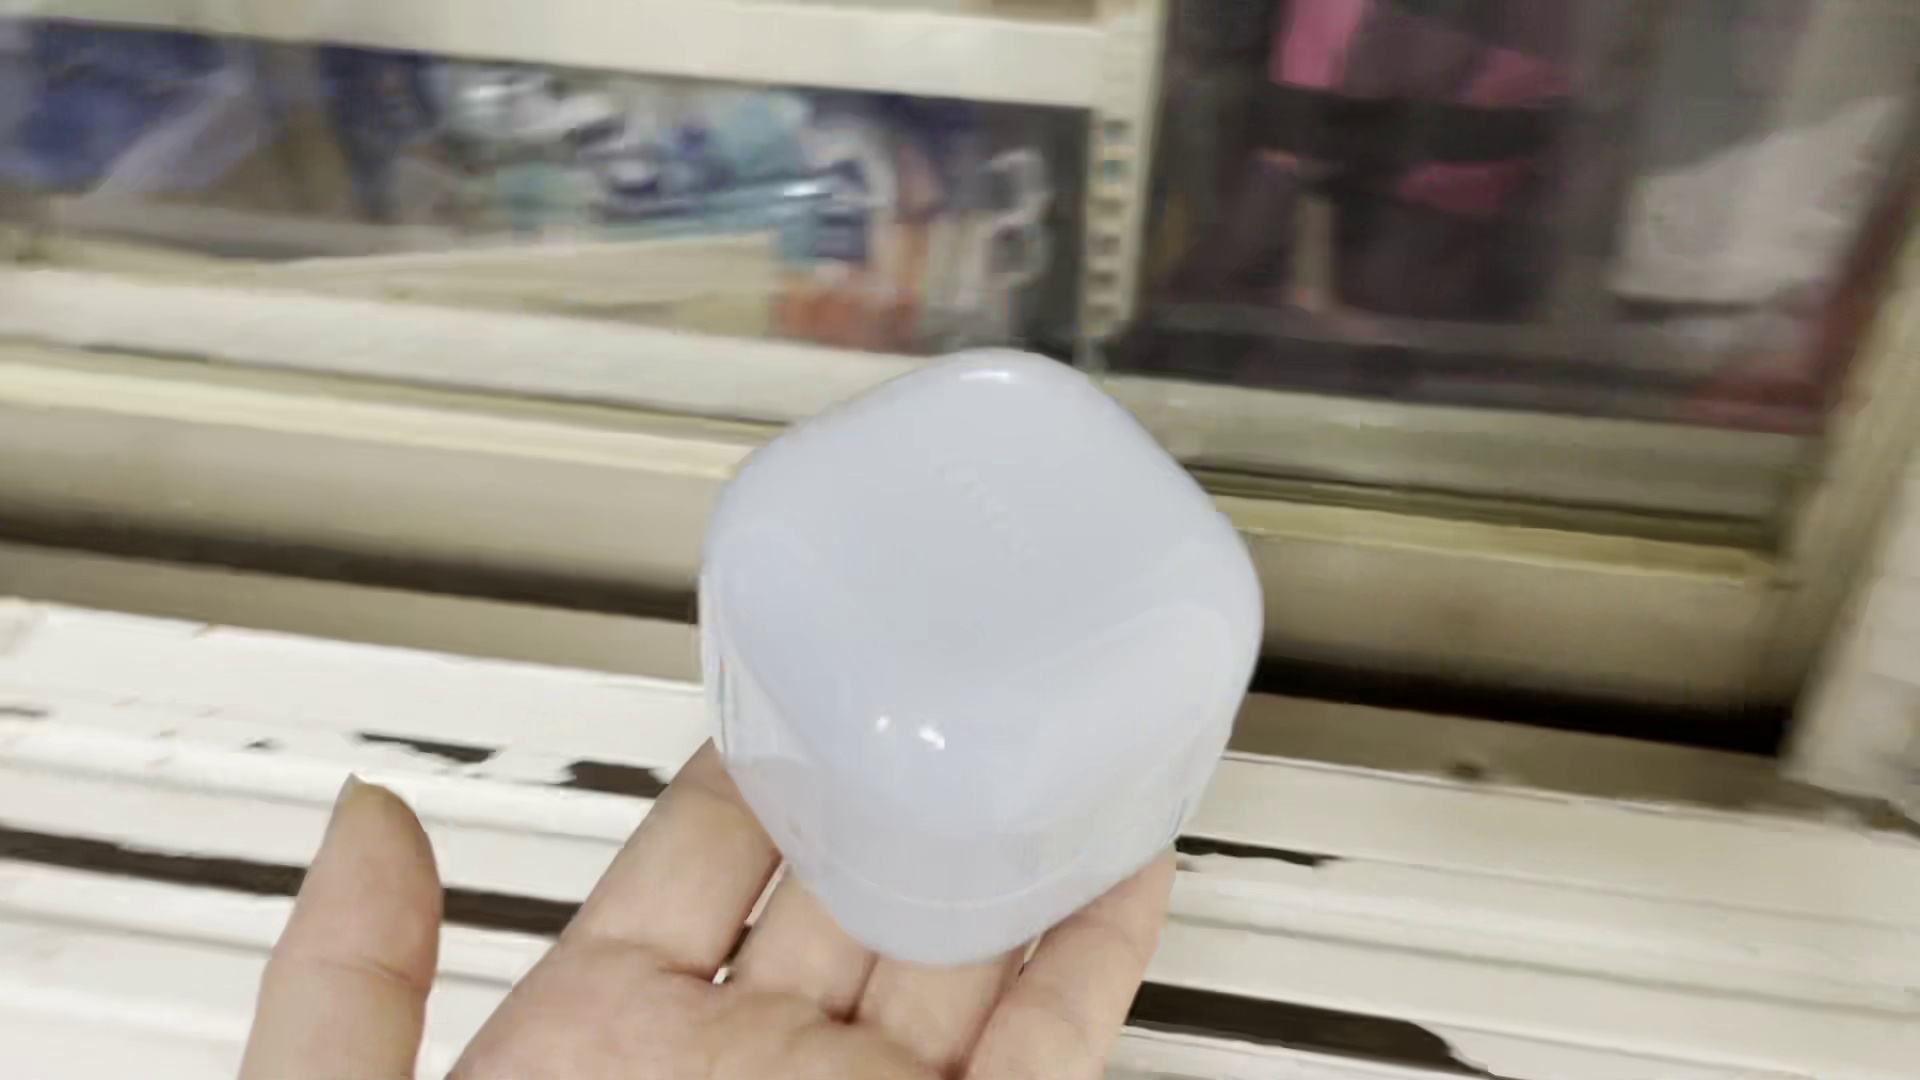cream: (703, 352, 1263, 964)
